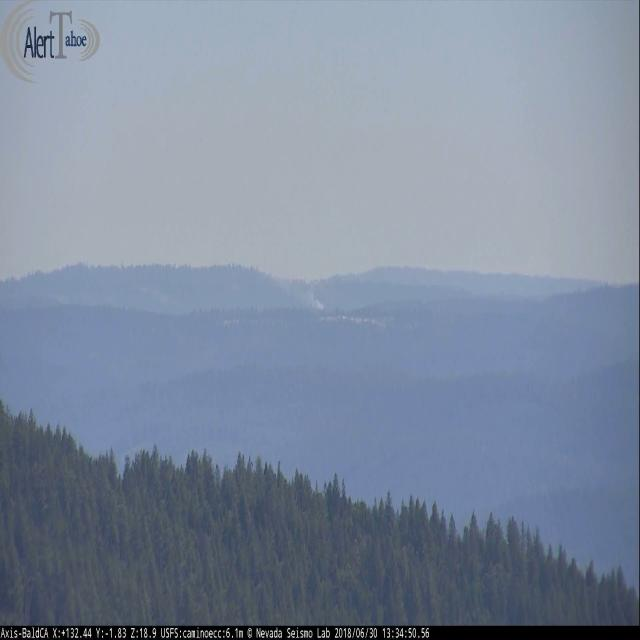smoke: (301, 284, 323, 312)
